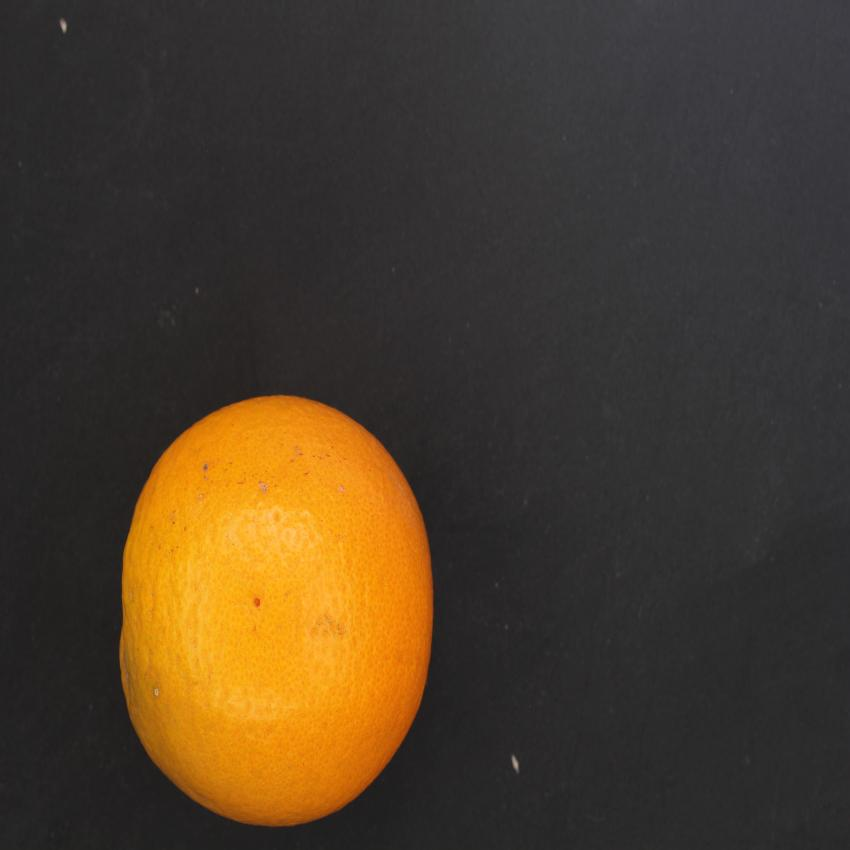Buen estado: (114, 376, 462, 834)
